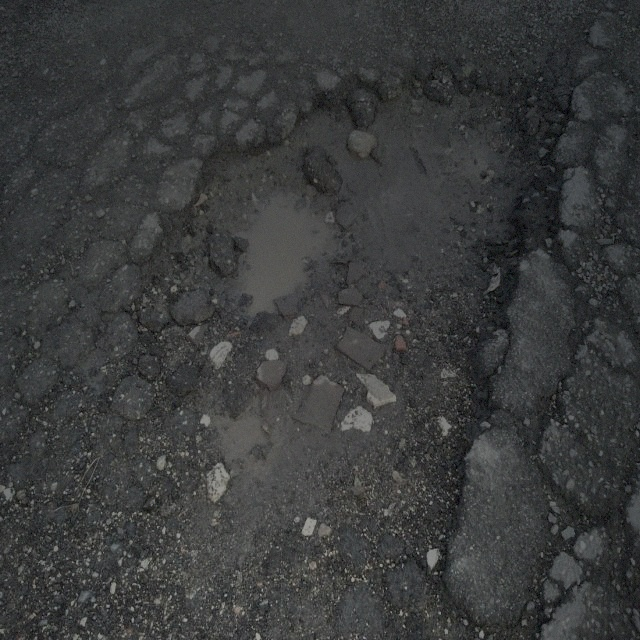pothole: (152, 52, 565, 556)
